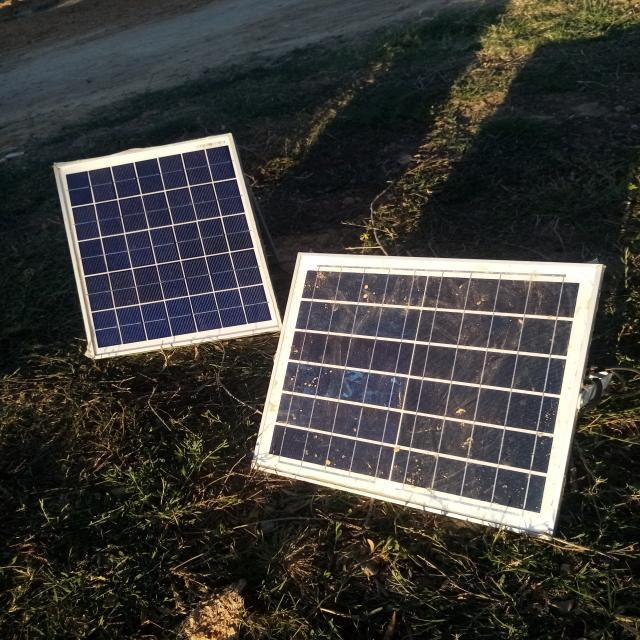faulty: (251, 254, 602, 537)
no faulty: (52, 134, 281, 358)
